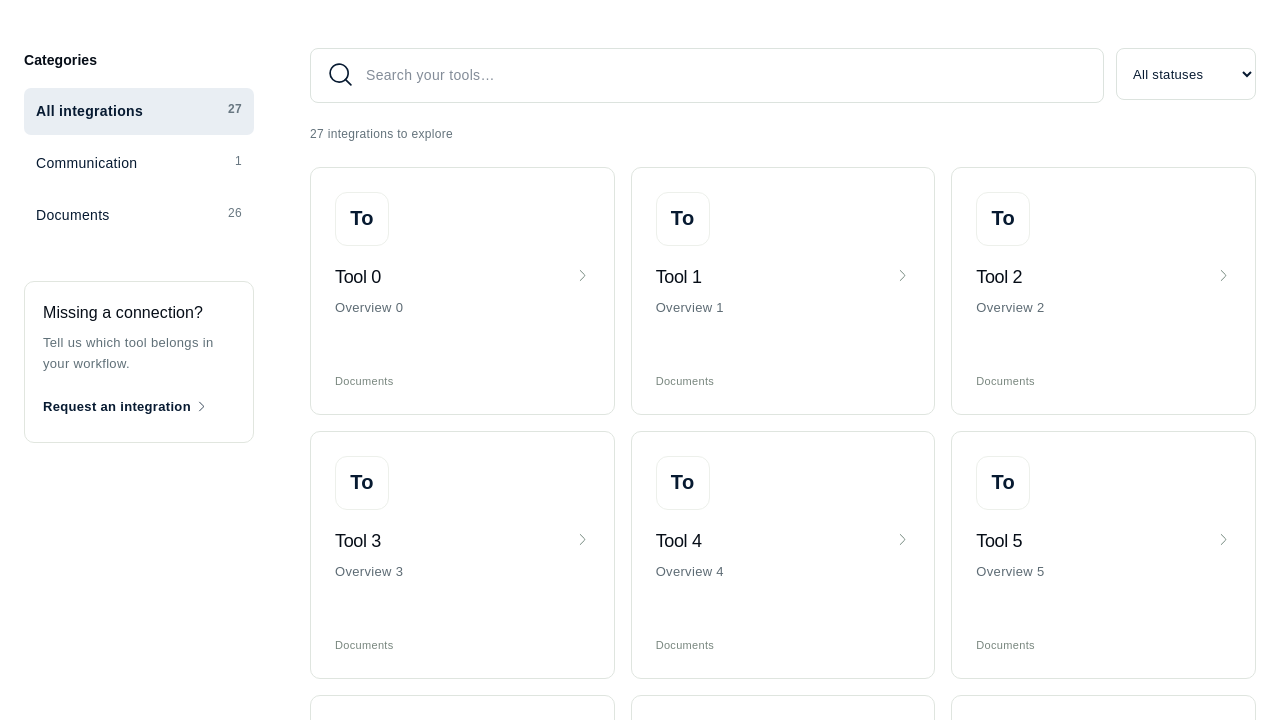
Test case: integration directory › combines category and availability with trimmed case-insensitive search
Step 1. Click the button "Communication 1" → point(139, 163), box [24,140,254,187]
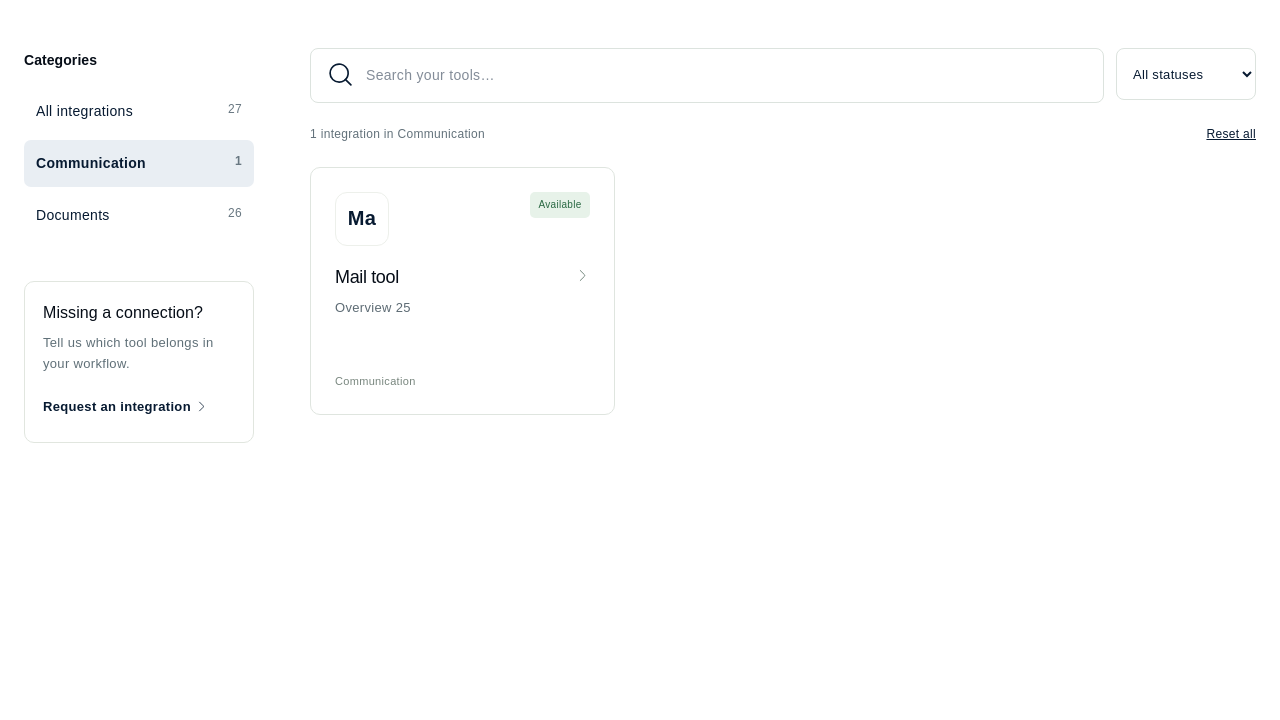
Expected: the button "Communication 1" is pressed, [24,140,254,187]
Step 2. Select "Available" in the dropdown → point(1186, 74), box [1116,48,1256,100]
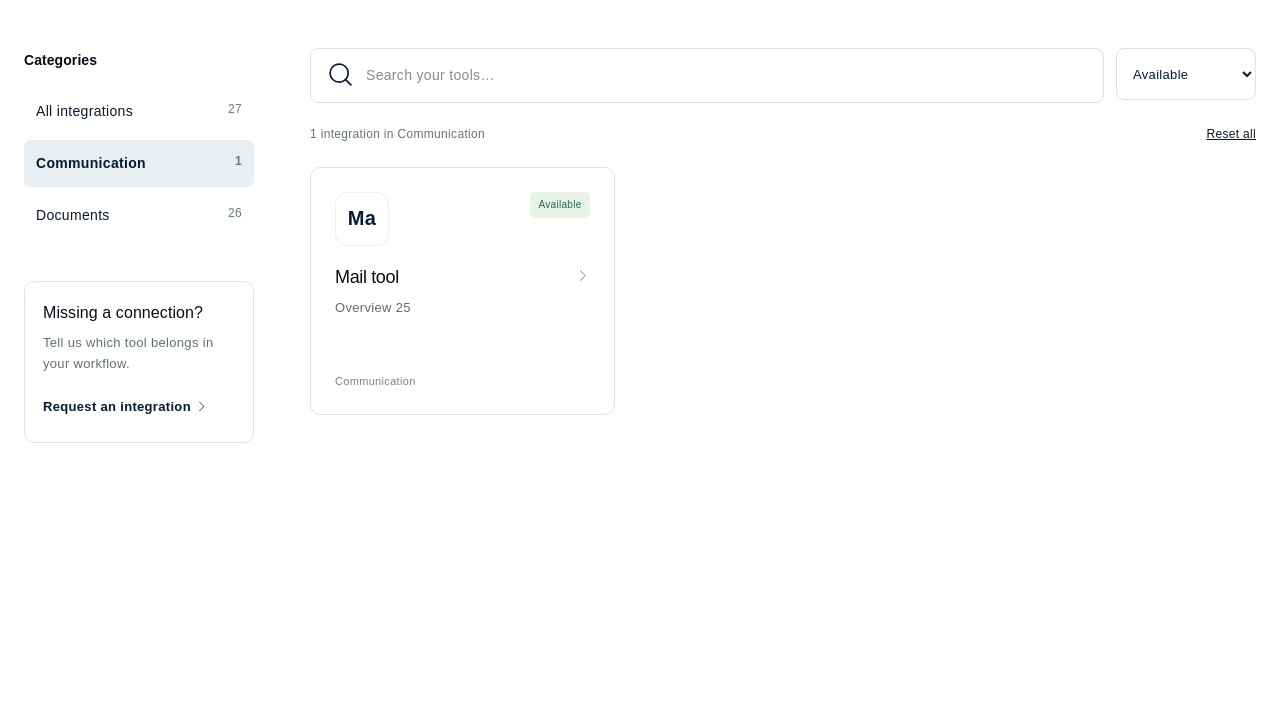
Step 3. Type "  MAIL  " into the search field → point(726, 76), box [366,49,1087,102]
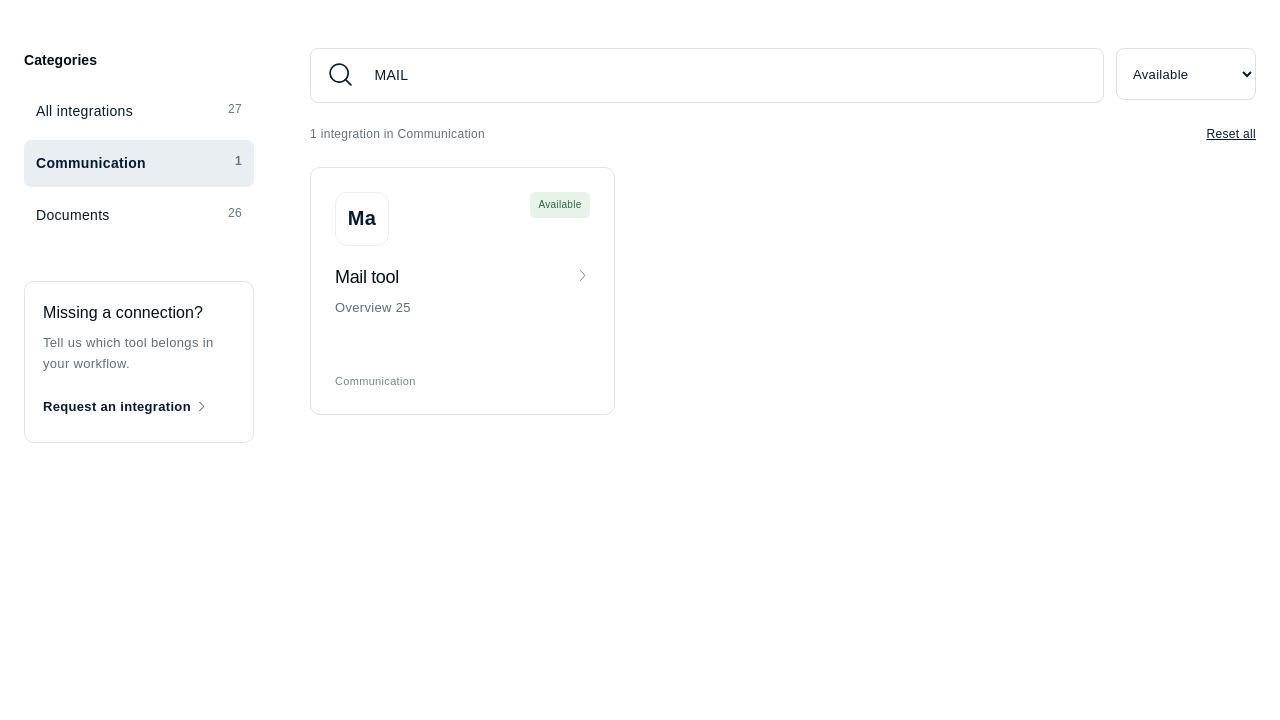
Expected: the message reads "1 integration in Communication", [310,125,485,145]
Expected: the heading "Mail tool" is shown, [335,268,590,287]
Step 4. Click the button "Reset all" → point(1231, 135), box [1206,125,1256,145]
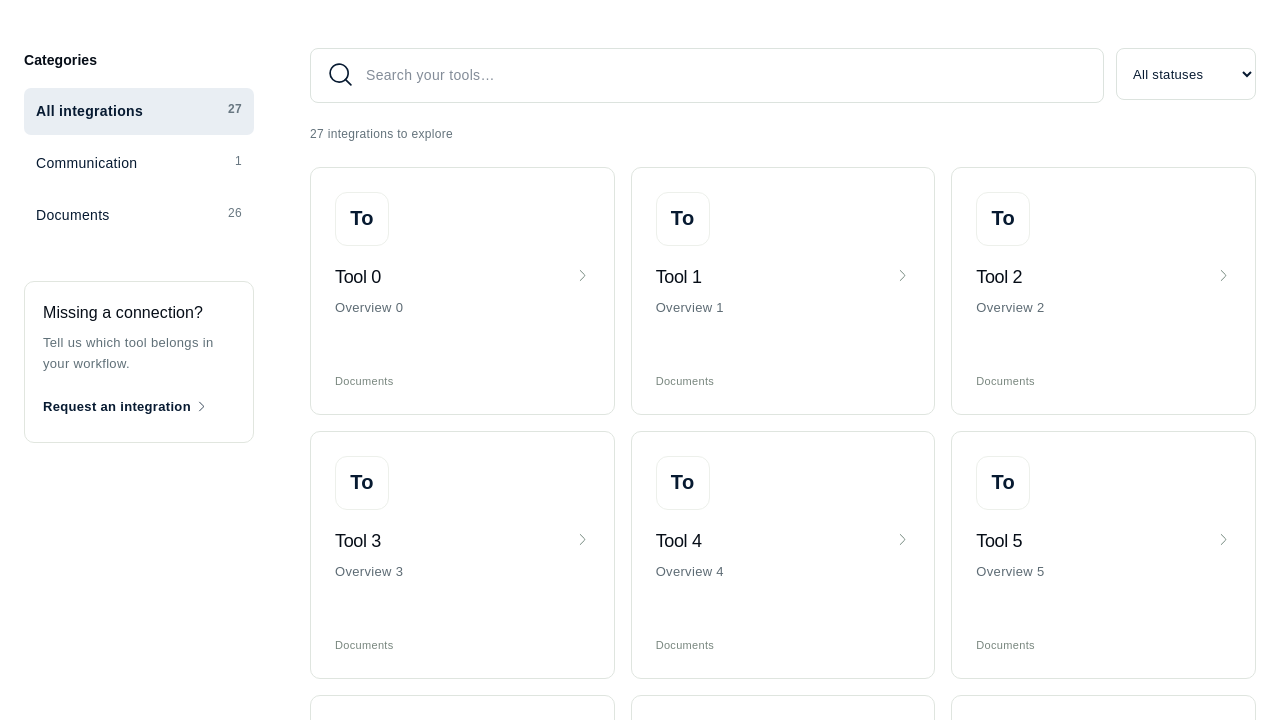
Expected: the message shows "27 integrations", [310,125,453,145]
Expected: the link "Mail tool" is gone
